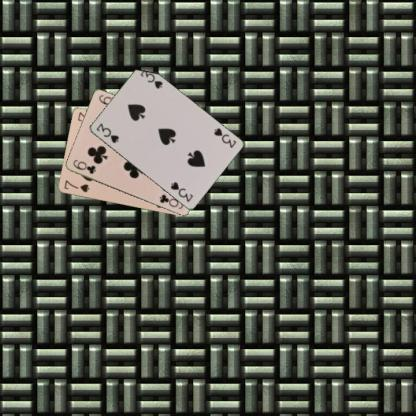3s: (211, 125, 237, 149), (94, 121, 120, 144)
6c: (71, 157, 97, 175)
7s: (62, 178, 90, 194)
